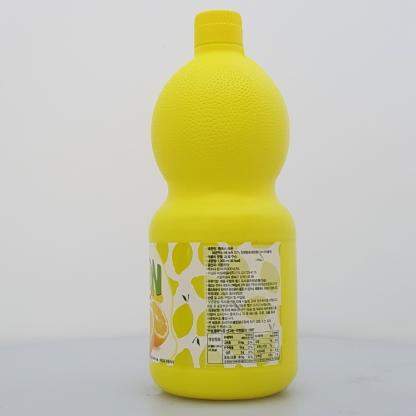-------: (148, 10, 298, 400)
